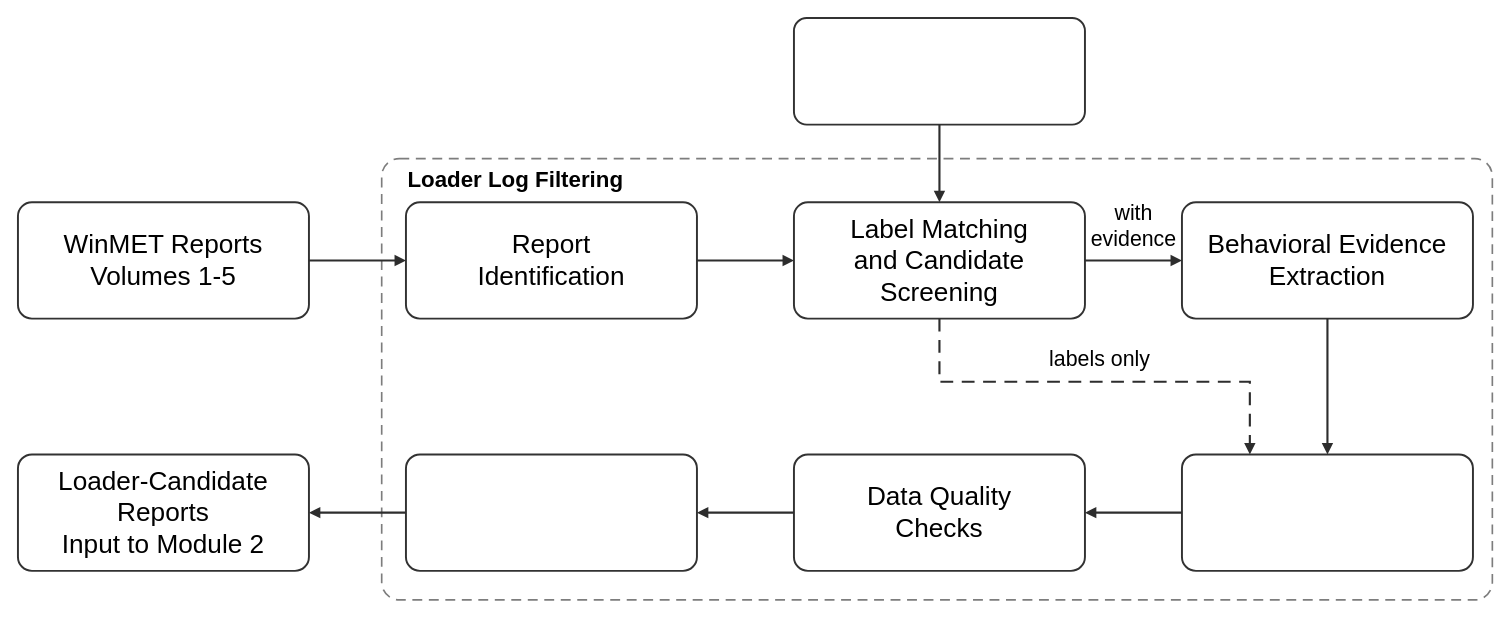
Image size: 1509x617. Some labels were removed from this diagram. Each missing label, with the centre of its shape:
"Candidate Report Export" goes at pixel 550 512.
"CAPE / AVClass Labels Consensus Metadata Loader Family List" goes at pixel 938 70.
"Selection Records and Traceability" goes at pixel 1326 512.
